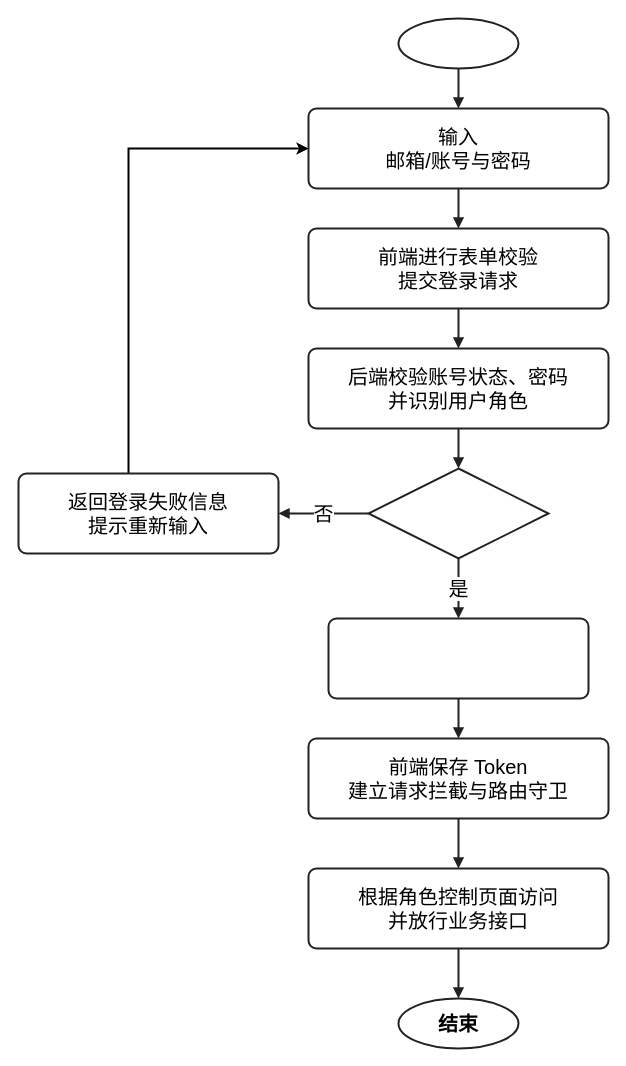
This 626x1066 diagram has some shape labels left out. Each missing label, with the centre of its shape:
开始: [458,43]
生成 JWT/登录态 返回前端: [458,658]
认证是否通过: [458,513]
